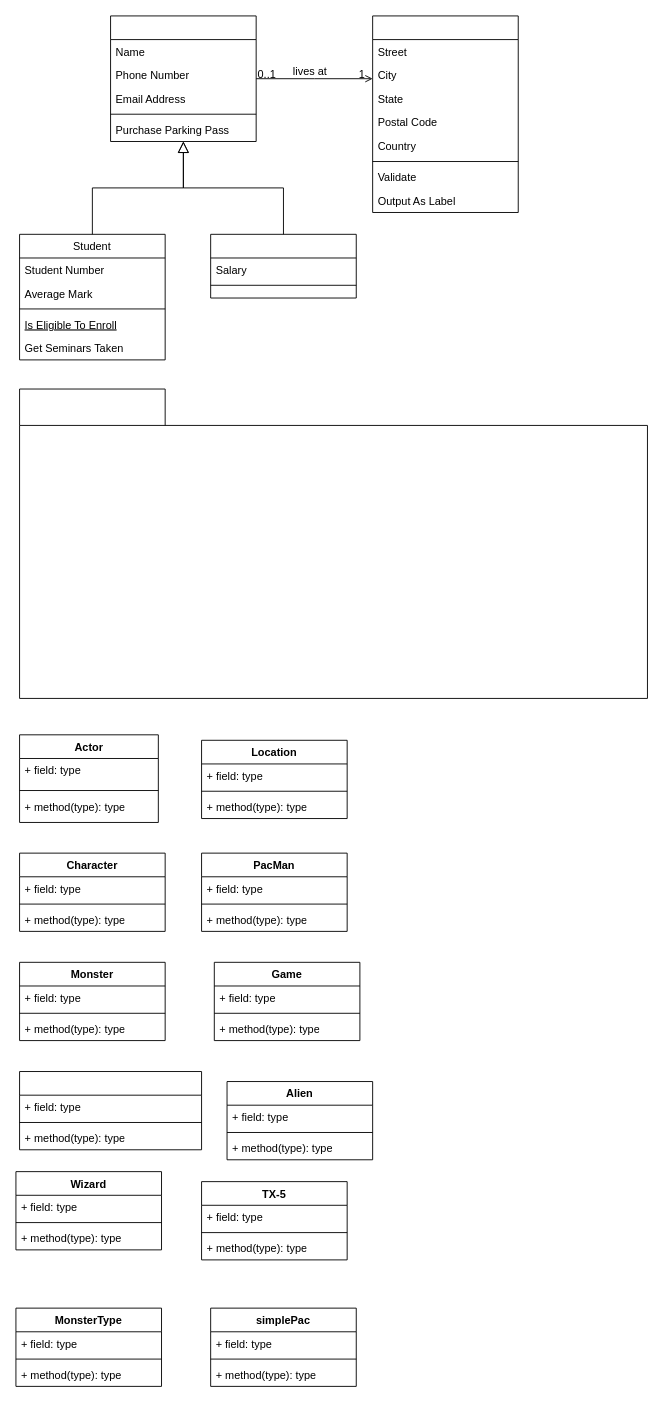
Some shapes in this 663 by 1405 pixel diagram are drawn without their labels. Each missing label, with the box of its shape:
Address: (372, 15, 518, 212)
ch.aplu.jgamegrid: (19, 388, 647, 698)
Driver: (19, 1071, 202, 1150)
Person: (110, 15, 256, 142)
Professor: (210, 233, 356, 298)
